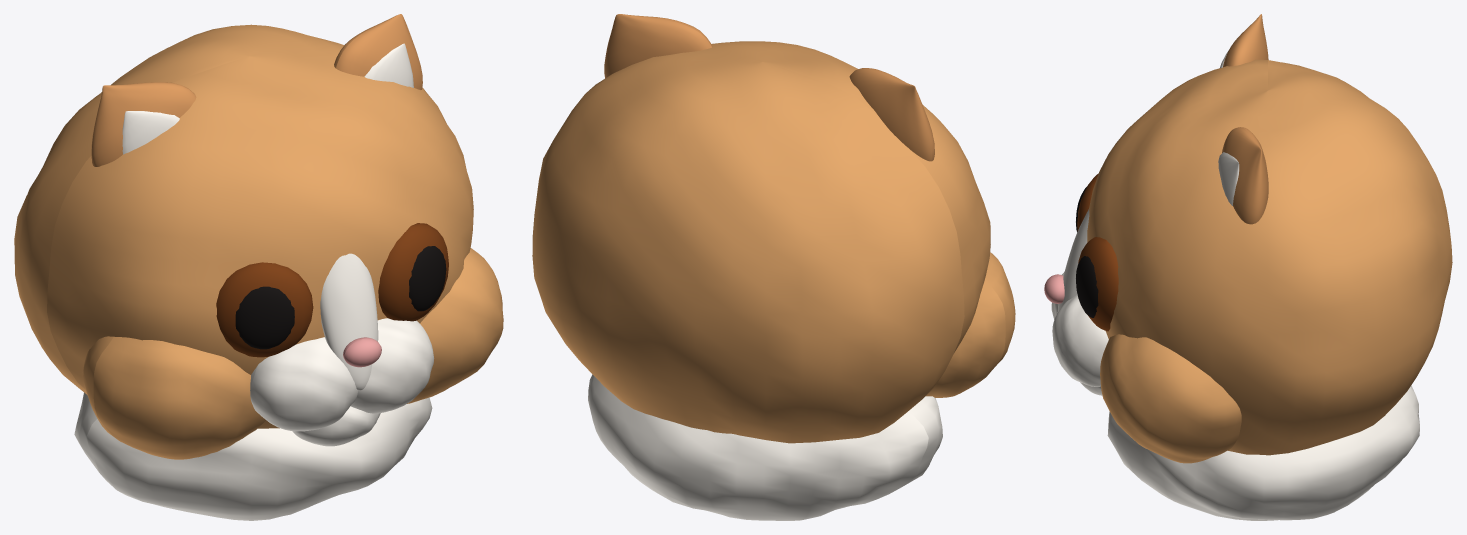
Rendered from head-cat-exotic.glb.
The picture shows the model from 3 angles, left to right: view 1: azimuth 30°, elevation 25°; view 2: azimuth 150°, elevation 25°; view 3: azimuth 270°, elevation 25°; orthographic projection. The views are drawn at different scales.
Parts seen in each view (by area): view 1: PM_FUR_MAIN_1, PM_FUR_SECONDARY_17, PM_FUR_MAIN_2, PM_FUR_SECONDARY_4, PM_FUR_MAIN_3, PM_FUR_SECONDARY_5, PM_FUR_SECONDARY_7, PM_EYES_8, PM_EARS_13, PM_EYES_10, PM_EARS_15, Eyes_Pupil_9 (+5 smaller); view 2: PM_FUR_MAIN_1, PM_FUR_SECONDARY_17, PM_FUR_MAIN_2, PM_EARS_15, PM_EARS_13; view 3: PM_FUR_MAIN_1, PM_FUR_SECONDARY_17, PM_FUR_MAIN_3, PM_FUR_SECONDARY_5, PM_EARS_15, PM_EYES_10, PM_EARS_13, Eyes_Pupil_11, PM_FUR_SECONDARY_7, PM_FUR_SECONDARY_16, PM_NOSE_12.
Boxes of the visible parts, box(x1,y1,x2,y2) form: PM_FUR_MAIN_1: box(14, 24, 473, 428); PM_FUR_SECONDARY_17: box(74, 392, 432, 520); PM_FUR_MAIN_2: box(83, 336, 265, 459); PM_FUR_SECONDARY_4: box(250, 337, 358, 431); PM_FUR_MAIN_3: box(407, 248, 503, 403); PM_FUR_SECONDARY_5: box(351, 318, 434, 413); PM_FUR_SECONDARY_7: box(320, 253, 378, 390); PM_EYES_8: box(216, 262, 313, 357); PM_EARS_13: box(91, 82, 196, 166); PM_EYES_10: box(378, 223, 448, 321); PM_EARS_15: box(334, 14, 422, 89); Eyes_Pupil_9: box(235, 286, 294, 349); PM_FUR_MAIN_1: box(532, 41, 990, 443); PM_FUR_SECONDARY_17: box(588, 374, 942, 520); PM_FUR_MAIN_2: box(926, 252, 1015, 397); PM_EARS_15: box(604, 14, 712, 78); PM_EARS_13: box(849, 68, 934, 161); PM_FUR_MAIN_1: box(1087, 59, 1452, 455); PM_FUR_SECONDARY_17: box(1107, 385, 1419, 520); PM_FUR_MAIN_3: box(1100, 334, 1241, 463); PM_FUR_SECONDARY_5: box(1052, 294, 1108, 386); PM_EARS_15: box(1222, 127, 1268, 224); PM_EYES_10: box(1078, 237, 1118, 331); PM_EARS_13: box(1223, 14, 1268, 67); Eyes_Pupil_11: box(1076, 256, 1098, 317); PM_FUR_SECONDARY_7: box(1057, 208, 1089, 312); PM_FUR_SECONDARY_16: box(1218, 152, 1239, 205); PM_NOSE_12: box(1044, 274, 1064, 303).
Size of the model in its own units: 0.0741 by 0.0781 by 0.0692.
